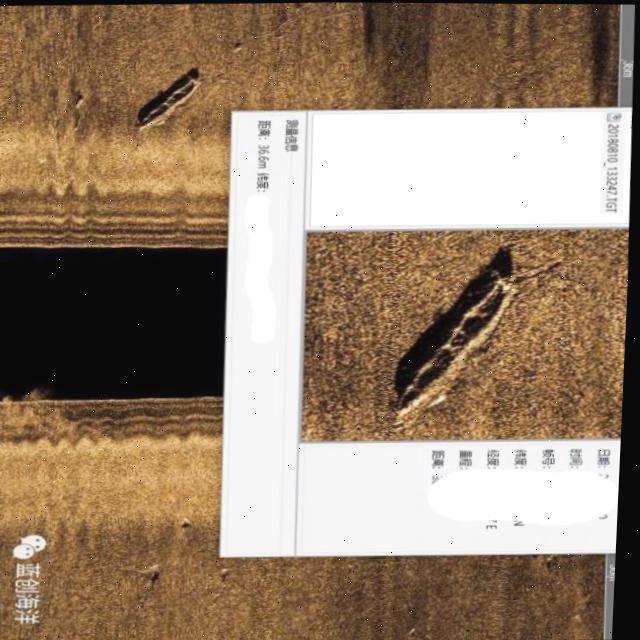shipwreck: (385, 265, 528, 426), (129, 74, 206, 134)
